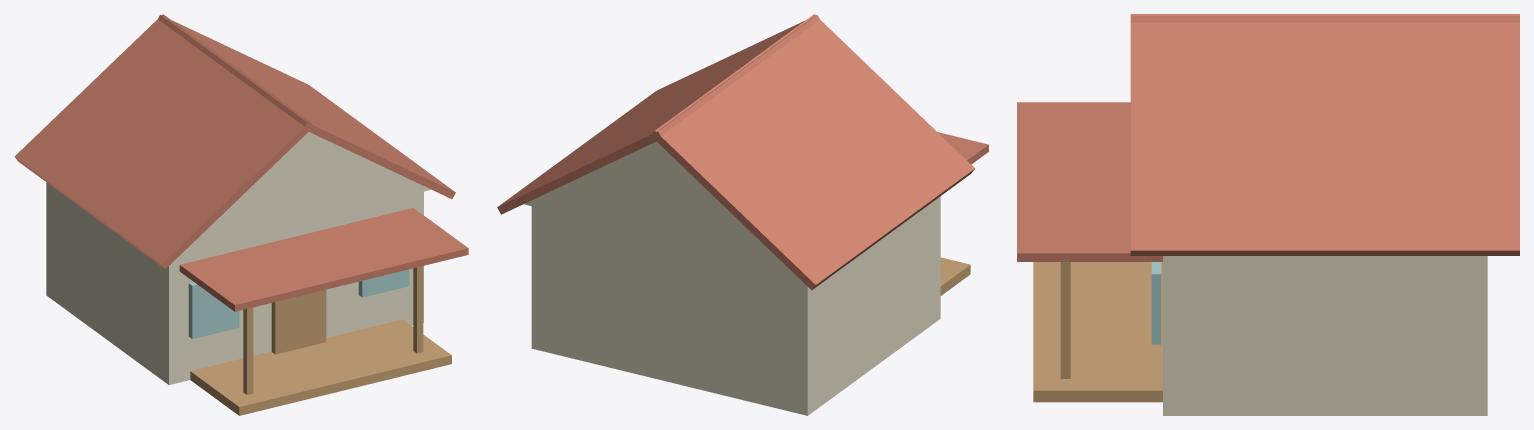
Rendered from cozy-farm-and-homestead-farmhouse-porch-6956906a__19371.glb.
The picture shows the model from 3 angles, left to right: view 1: azimuth 30°, elevation 25°; view 2: azimuth 150°, elevation 25°; view 3: azimuth 270°, elevation 25°; orthographic projection. The views are drawn at different scales.
Visible parts, largest first — view 1: farmhouse-porch; view 2: farmhouse-porch; view 3: farmhouse-porch.
Part boxes in pixels (bbox=[...]): farmhouse-porch: bbox=[14, 14, 468, 415]; farmhouse-porch: bbox=[497, 14, 988, 415]; farmhouse-porch: bbox=[1017, 14, 1519, 415].
Bounding box in the file's own units: 6.93 × 5.42 × 7.75.
